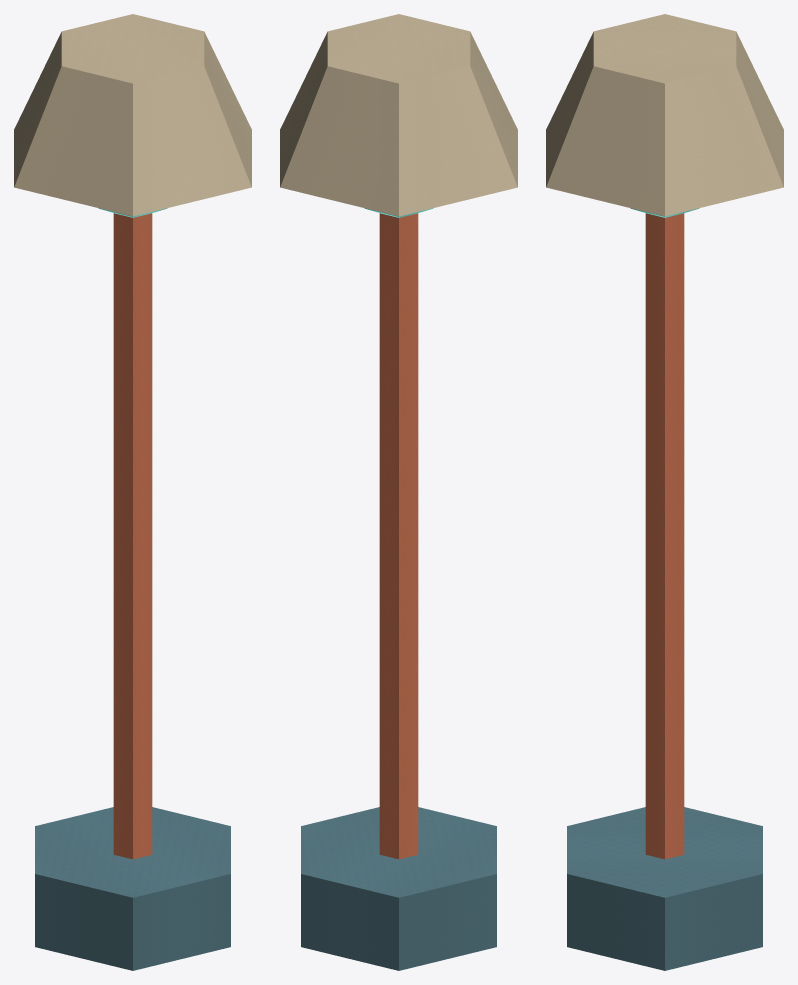
File: atlas100-sailpunk-util01.lod1.glb
3 renders of one model, left to right at view 1: azimuth 30°, elevation 25°; view 2: azimuth 150°, elevation 25°; view 3: azimuth 270°, elevation 25°, orthographic.
Parts seen in each view (by area): view 1: atlas100-sailpunk-util01:part-002, atlas100-sailpunk-util01:part-000, atlas100-sailpunk-util01:part-001; view 2: atlas100-sailpunk-util01:part-002, atlas100-sailpunk-util01:part-000, atlas100-sailpunk-util01:part-001; view 3: atlas100-sailpunk-util01:part-002, atlas100-sailpunk-util01:part-000, atlas100-sailpunk-util01:part-001.
Boxes of the visible parts, <box> form: atlas100-sailpunk-util01:part-002: <box>14,14,251,216</box>; atlas100-sailpunk-util01:part-000: <box>35,807,230,970</box>; atlas100-sailpunk-util01:part-001: <box>113,213,152,859</box>; atlas100-sailpunk-util01:part-002: <box>280,14,517,216</box>; atlas100-sailpunk-util01:part-000: <box>301,807,496,970</box>; atlas100-sailpunk-util01:part-001: <box>379,213,418,859</box>; atlas100-sailpunk-util01:part-002: <box>546,14,783,216</box>; atlas100-sailpunk-util01:part-000: <box>567,807,762,970</box>; atlas100-sailpunk-util01:part-001: <box>645,213,684,859</box>.
Bounding box in the file's own units: 0.7113 × 2.5 × 0.616.
4 materials, 4 textured.
